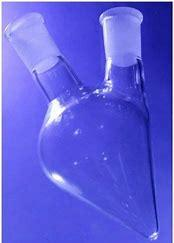Pear shaped flask: (6, 12, 167, 238)
